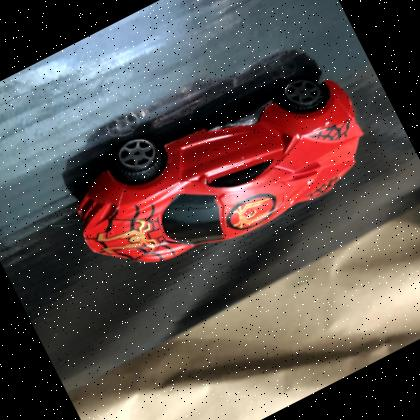Car: (76, 75, 363, 263)
